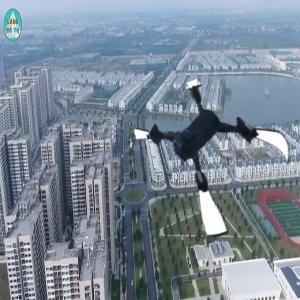drone: (135, 80, 292, 237)
